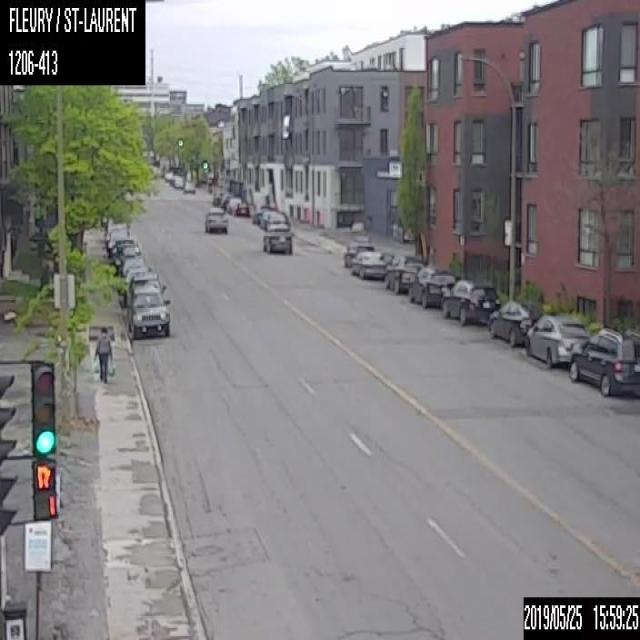pedestrian: (93, 327, 114, 382)
vehicle: (569, 325, 639, 397), (524, 314, 588, 367), (442, 278, 500, 324), (488, 301, 544, 346), (126, 286, 170, 338), (408, 266, 455, 306), (386, 254, 424, 292), (352, 250, 385, 280), (262, 222, 292, 254), (343, 240, 374, 266), (129, 274, 166, 294), (204, 207, 228, 232), (232, 200, 250, 215), (212, 188, 226, 204), (226, 196, 240, 212), (220, 193, 234, 208), (173, 175, 183, 188), (184, 181, 195, 192)
